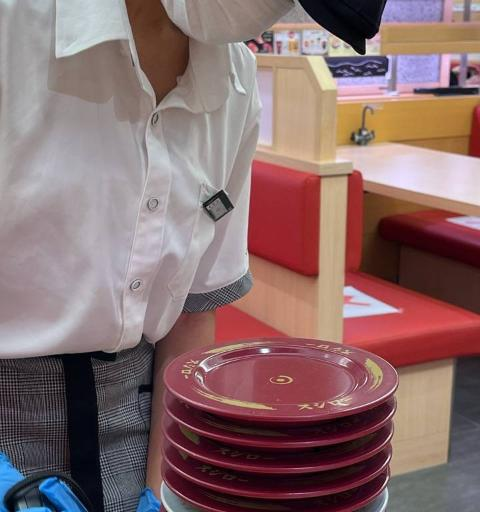Janred: (164, 335, 421, 421), (186, 426, 390, 450), (180, 472, 365, 496), (202, 456, 388, 474), (194, 502, 369, 512)
